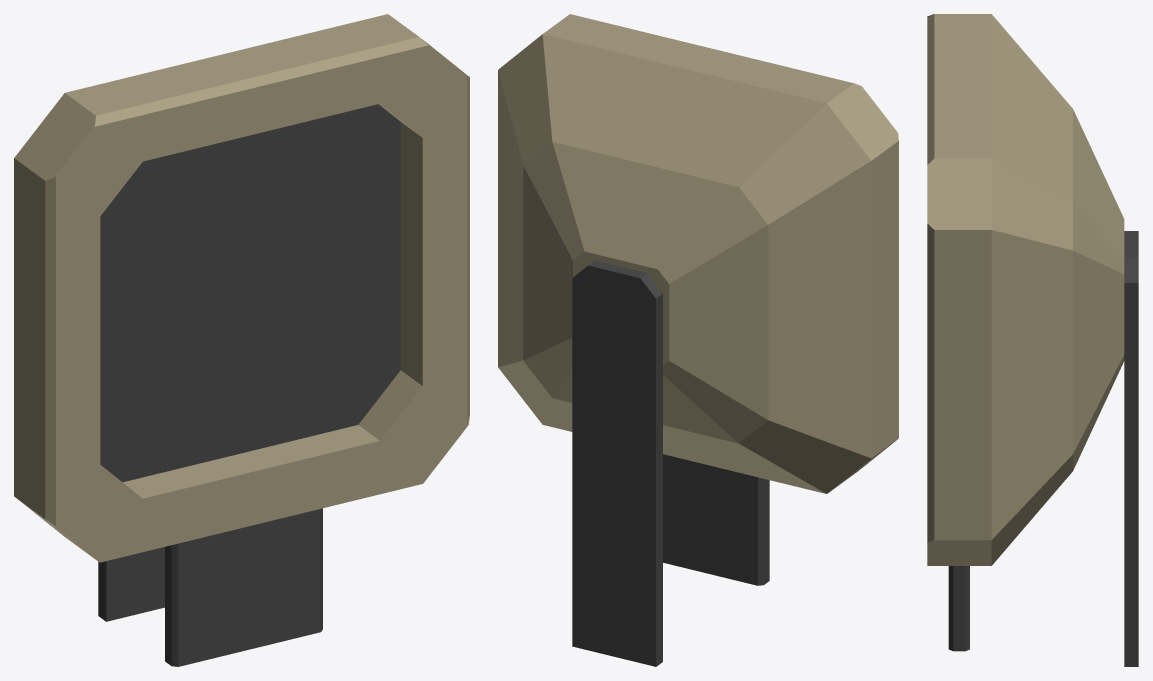
The model's file is Display.fbx.
3 renders of one model, left to right at view 1: azimuth 30°, elevation 25°; view 2: azimuth 150°, elevation 25°; view 3: azimuth 270°, elevation 25°, orthographic. The views are drawn at different scales.
Visible parts, largest first — view 1: Cube; view 2: Cube; view 3: Cube.
Boxes of the visible parts, x1,y1,x2,y2 form: Cube: [14, 14, 469, 666]; Cube: [498, 14, 898, 666]; Cube: [927, 14, 1138, 666].
Bounding box in the file's own units: 229 × 314 × 108.
